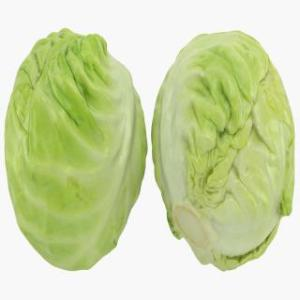cabbage: (152, 19, 296, 273), (4, 26, 148, 274)
